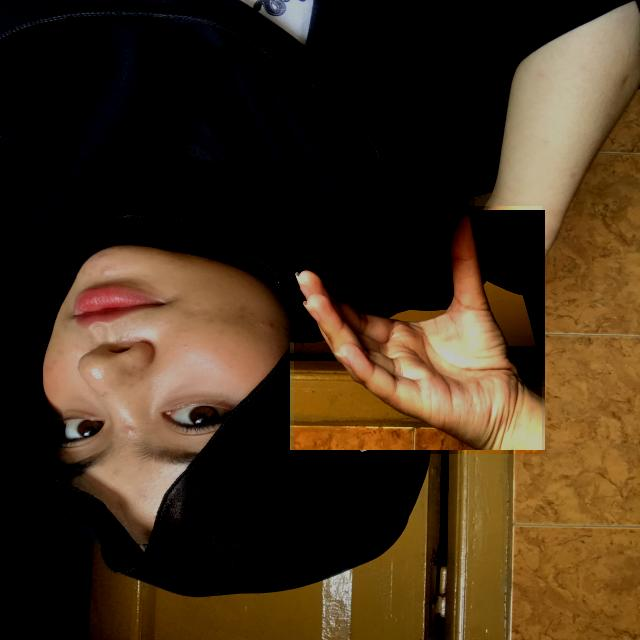mendengar: (294, 206, 542, 454)
